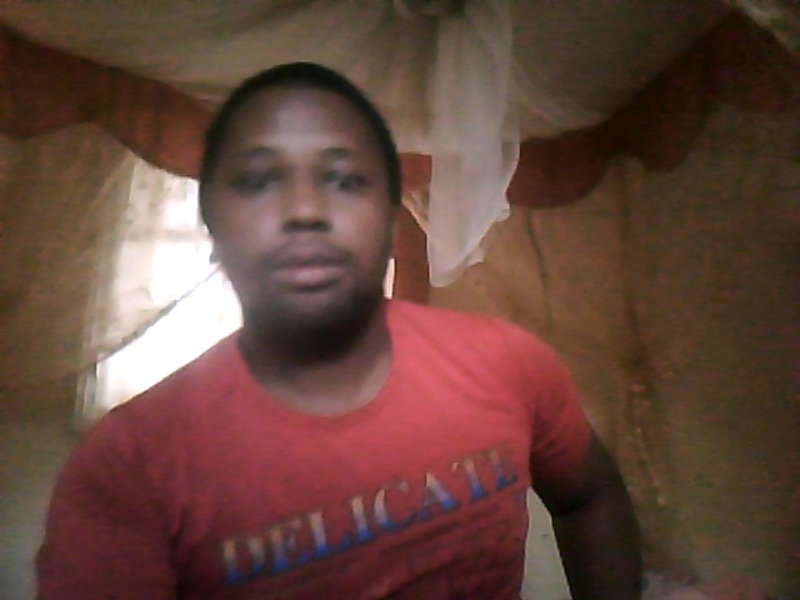TsisyArotava: (193, 66, 422, 367)
